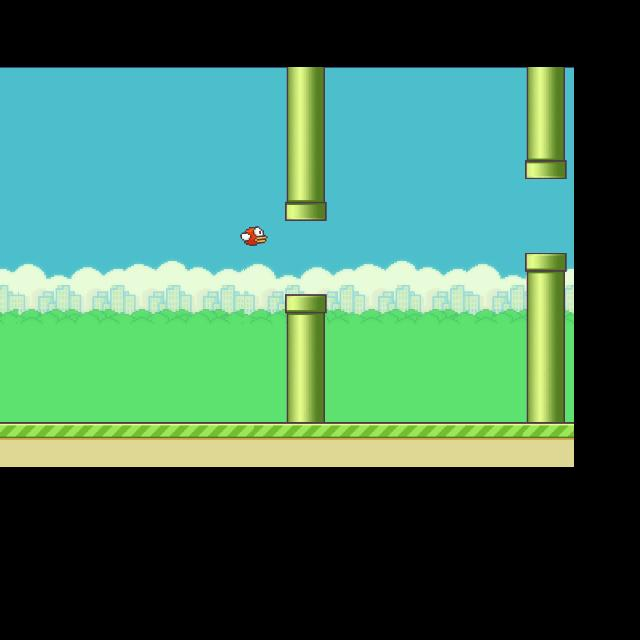bird: (241, 226, 266, 246)
pipedown: (525, 254, 565, 422), (285, 293, 328, 425)
pipeup: (287, 69, 325, 220), (523, 66, 568, 178)
